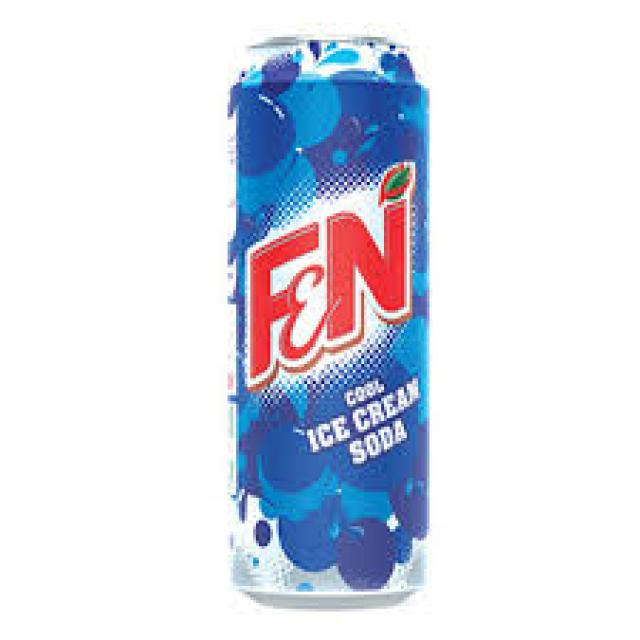metal: (228, 34, 427, 606)
